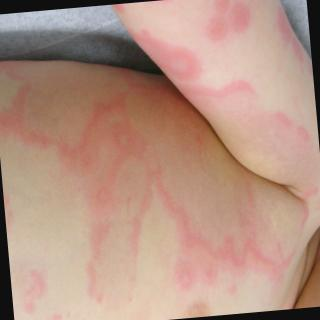urticaria: (68, 141, 129, 224), (162, 204, 213, 290), (88, 238, 139, 307), (138, 27, 206, 78), (231, 238, 281, 292), (210, 1, 249, 42)
